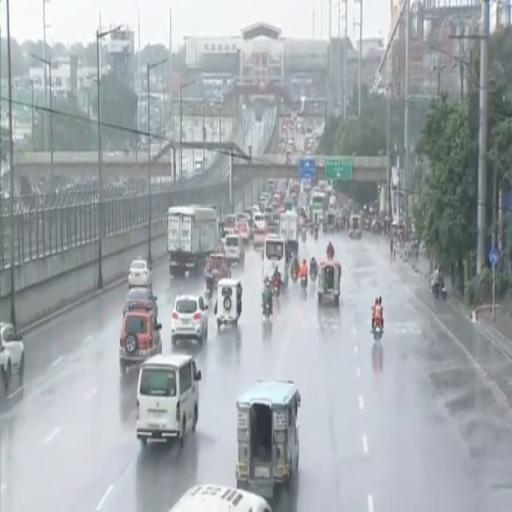car: (119, 309, 161, 374), (171, 295, 208, 345), (0, 323, 24, 394), (123, 287, 158, 316), (207, 253, 231, 282), (128, 259, 152, 287)
jeepney: (236, 380, 300, 498)
motorcycle: (432, 278, 447, 300), (205, 279, 214, 300), (263, 301, 272, 318), (373, 325, 383, 340), (273, 278, 280, 296), (290, 268, 298, 282), (205, 285, 212, 300), (310, 268, 317, 282), (301, 276, 307, 289), (327, 251, 333, 261), (314, 228, 318, 239), (302, 231, 306, 242), (310, 224, 313, 234)
truck: (167, 206, 220, 277), (279, 212, 299, 253)
